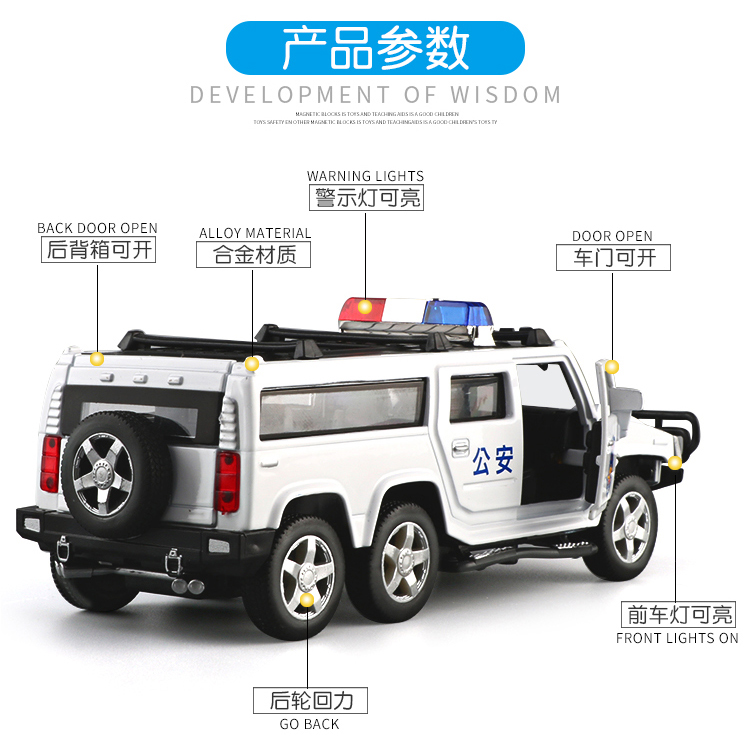Car: (20, 290, 710, 658)
